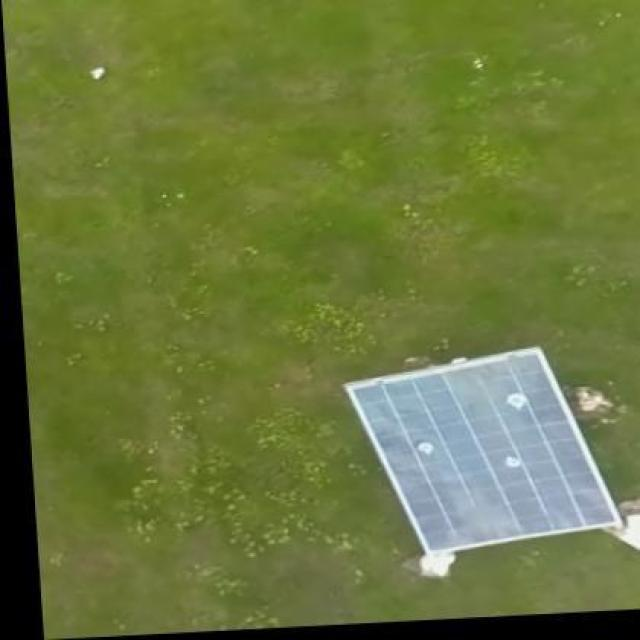soiled: (341, 342, 625, 552)
